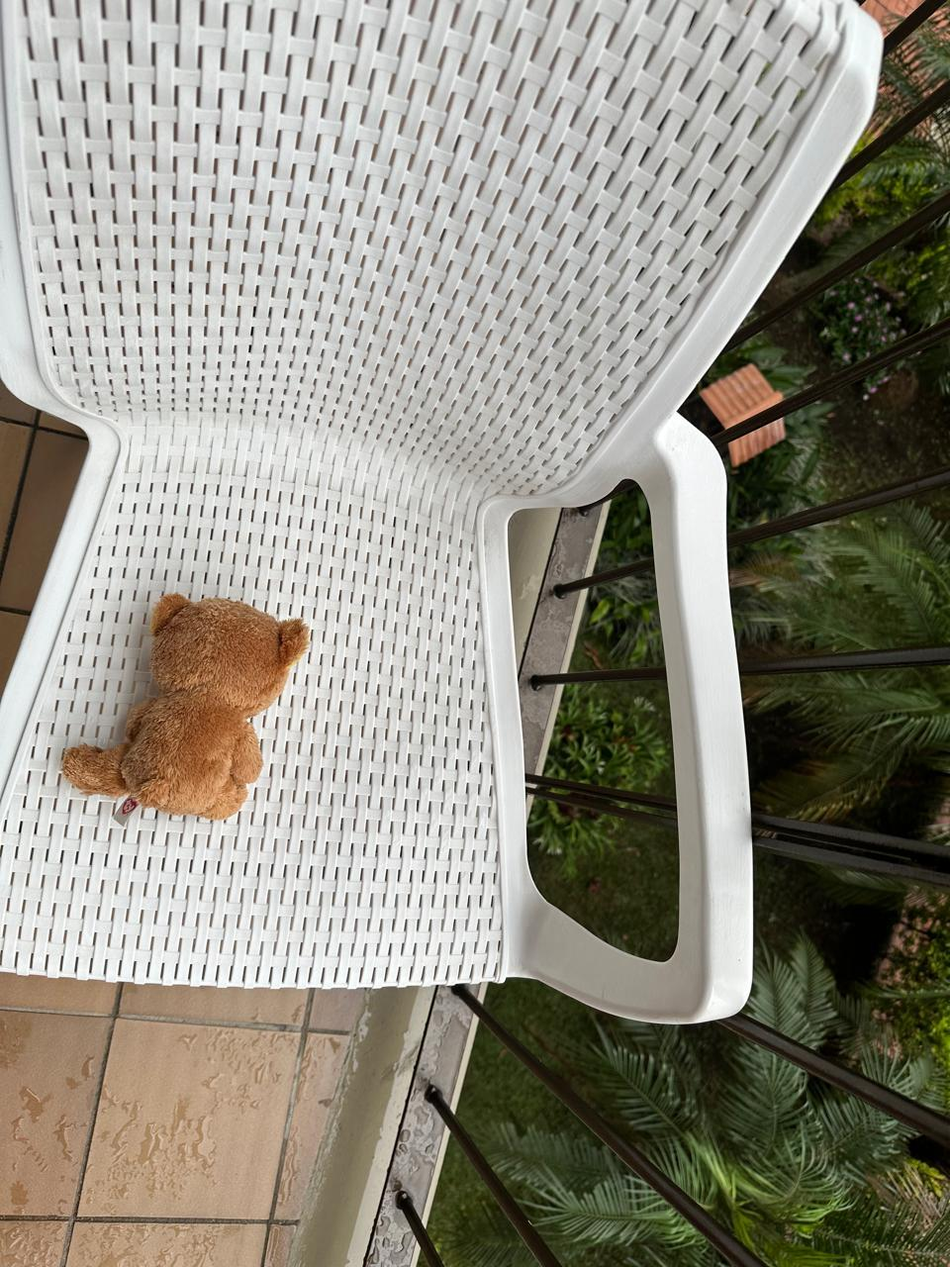peluche_sebastian: (57, 589, 314, 824)
